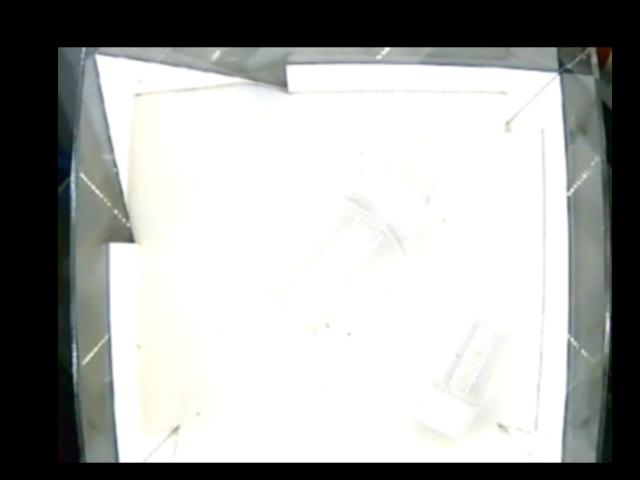Bottle: (266, 166, 427, 336), (403, 319, 517, 438)
